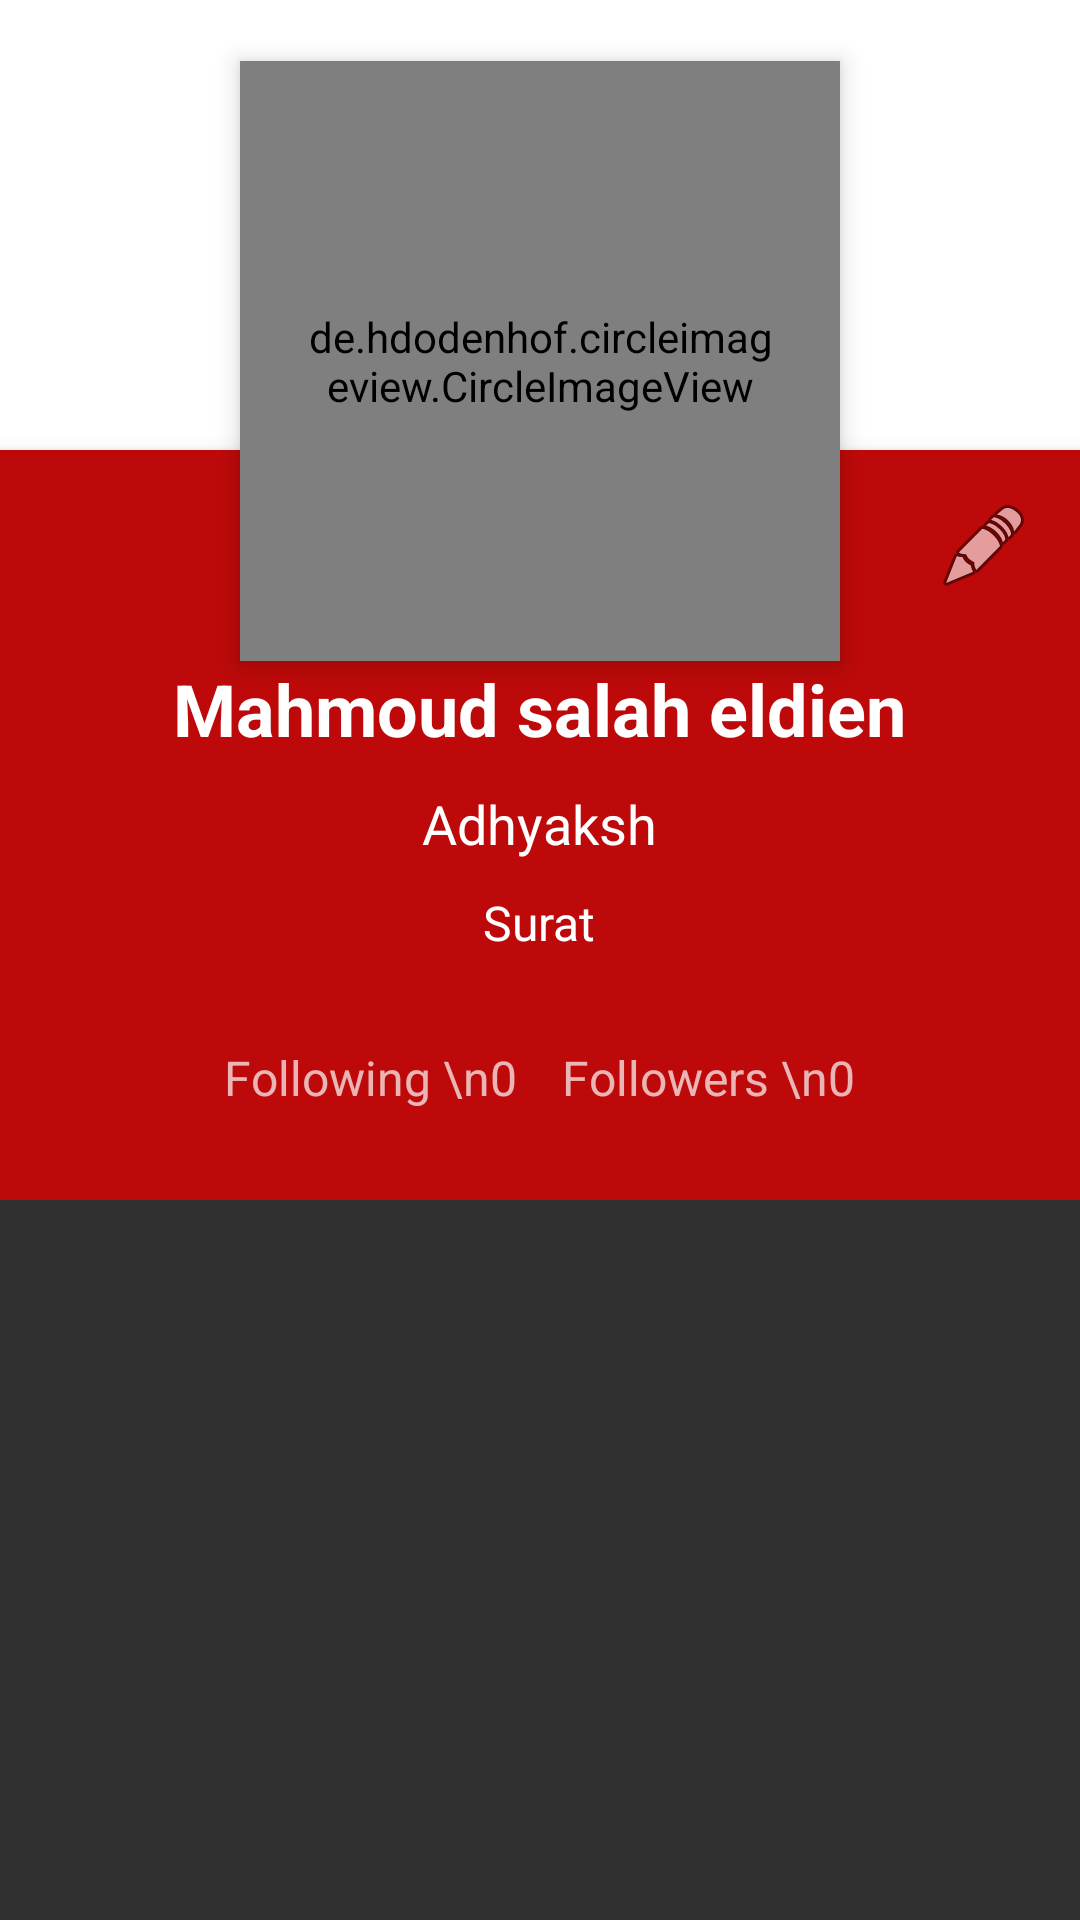

Where to tap for icons on this 1080 x 1920 app screen, as [x,y]:
edit: [983,545]
